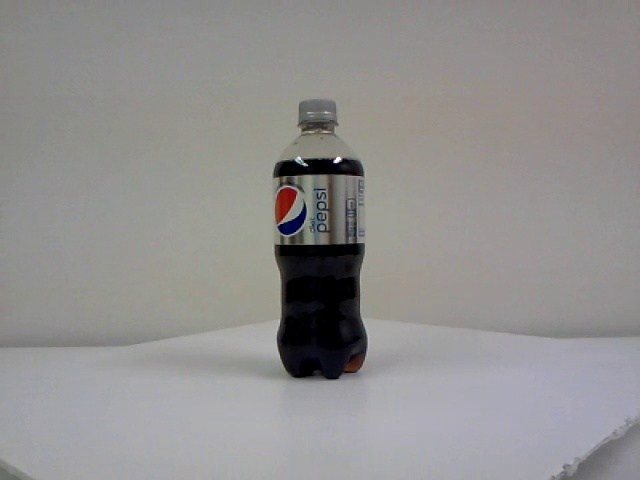botolplastik: (274, 101, 367, 379)
